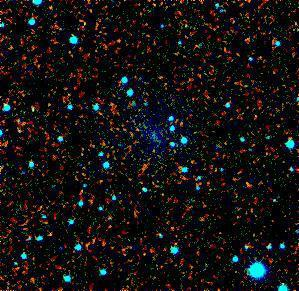star: (36, 223, 66, 253)
